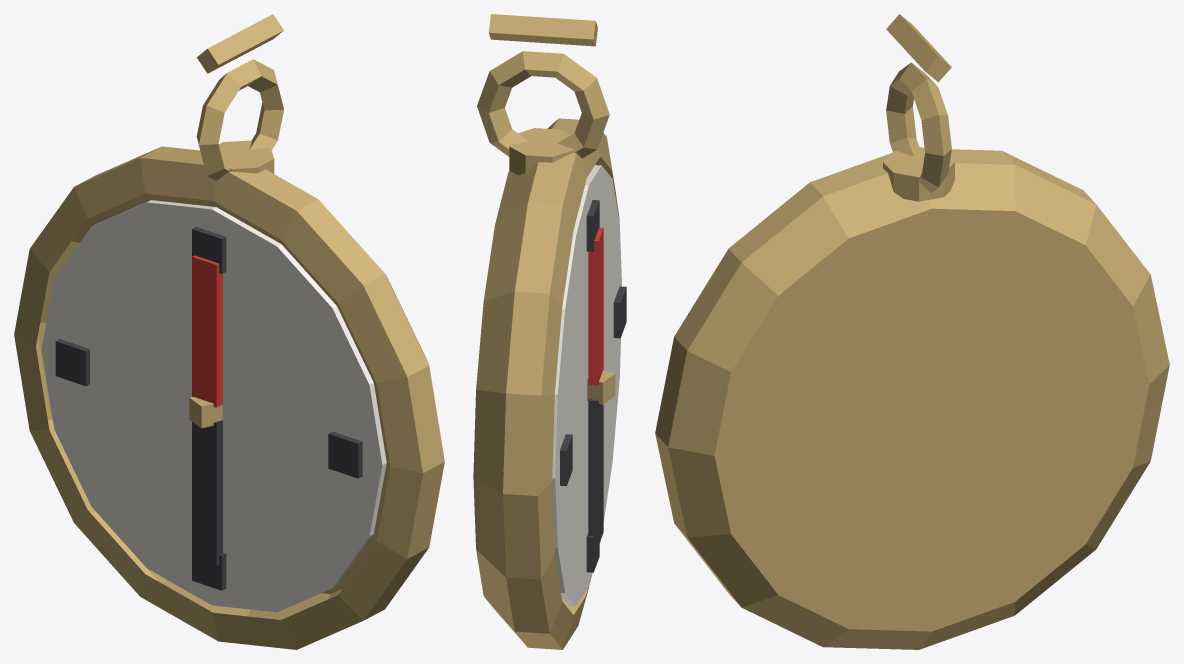
The model's file is Brujula.glb.
3 views of the same model, side by side, from view 1: azimuth 30°, elevation 25°; view 2: azimuth 150°, elevation 25°; view 3: azimuth 270°, elevation 25° (orthographic). The views are drawn at different scales.
Parts seen in each view (by area): view 1: Brujula; view 2: Brujula; view 3: Brujula.
Part boxes in pixels (x1=…): Brujula: x1=14, y1=14, x2=444, y2=649; Brujula: x1=473, y1=14, x2=626, y2=649; Brujula: x1=655, y1=14, x2=1169, y2=649.
Size of the model in its own units: 0.1388 by 0.378 by 0.2868.
